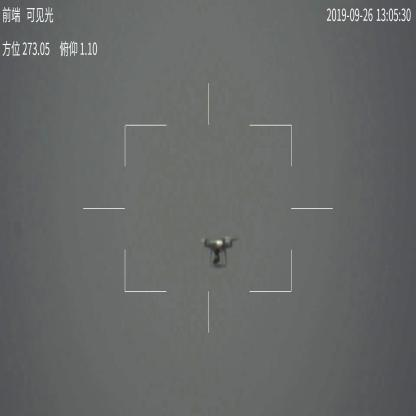uav: (198, 233, 235, 270)
